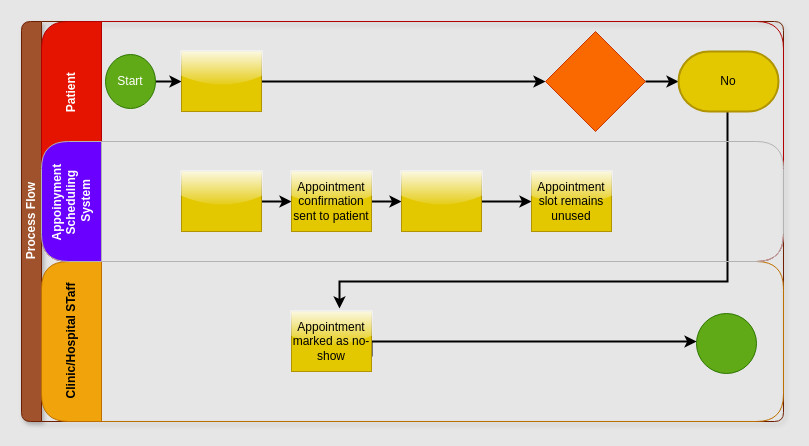
This 809x446 diagram has some shape labels left out. Each missing label, with the centre of its shape:
"Appointment remainder sent to patient" goes at pixel 441 201.
"Appointment scheduled in system" goes at pixel 221 201.
"End" goes at pixel 726 343.
"Patient attends appointment ?" goes at pixel 595 81.
"Patient receives referral" goes at pixel 221 81.
